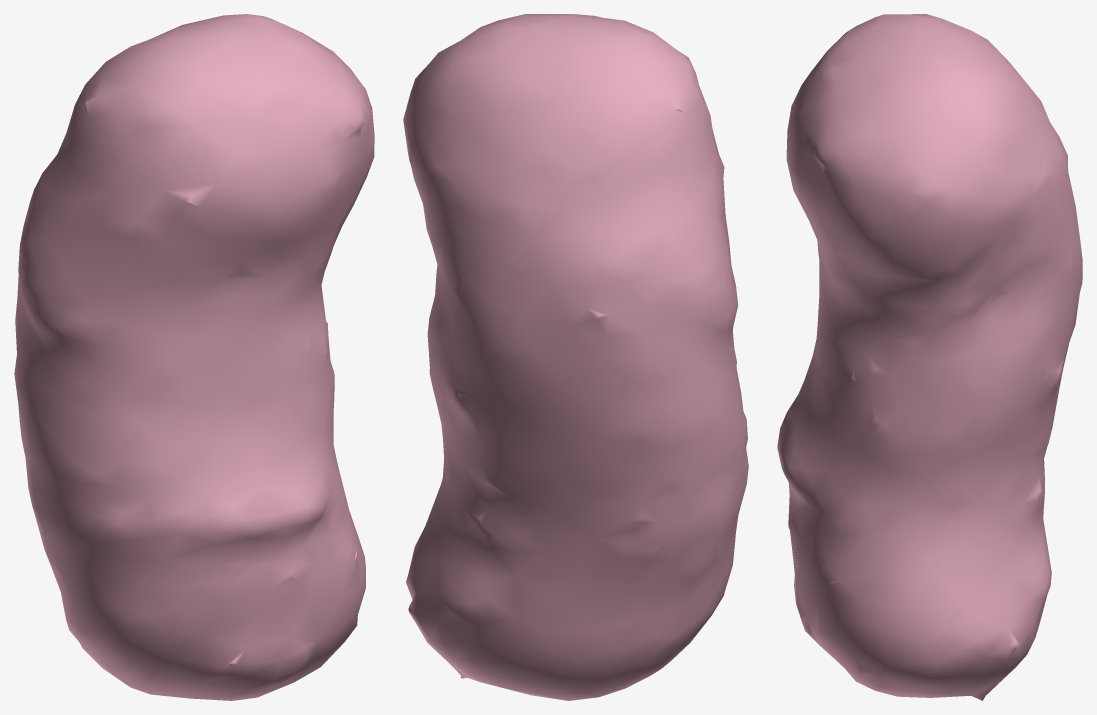
Rendered from intestinal-villus.glb.
3 views of the same model, side by side, from view 1: azimuth 30°, elevation 25°; view 2: azimuth 150°, elevation 25°; view 3: azimuth 270°, elevation 25° (orthographic). The views are drawn at different scales.
Parts seen in each view (by area): view 1: intestinal-villus; view 2: intestinal-villus; view 3: intestinal-villus.
Part boxes in pixels (x1=…): intestinal-villus: x1=14, y1=14, x2=374, y2=700; intestinal-villus: x1=403, y1=14, x2=748, y2=700; intestinal-villus: x1=777, y1=14, x2=1082, y2=700.
Bounding box in the file's own units: 2.14 × 4.21 × 1.83.
1 material, 1 textured.
